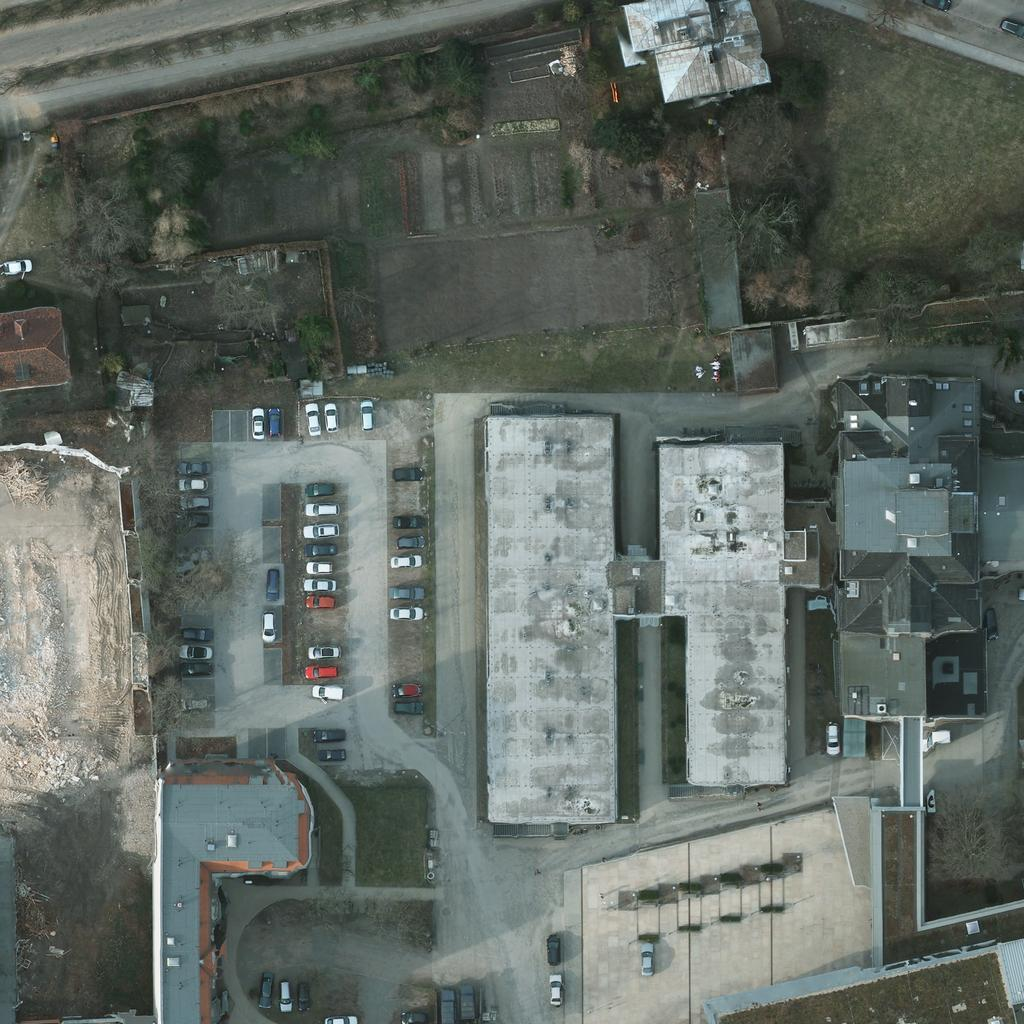car: (349, 398, 383, 432), (313, 400, 347, 434), (295, 401, 329, 435), (238, 405, 272, 439), (256, 406, 290, 440), (388, 457, 422, 491), (178, 468, 212, 502), (301, 469, 335, 503), (180, 484, 214, 518), (303, 491, 337, 525), (390, 504, 424, 538), (301, 513, 335, 547), (391, 523, 425, 557), (301, 531, 335, 565), (388, 544, 422, 578), (302, 548, 336, 582), (256, 564, 290, 598), (301, 567, 335, 601), (388, 574, 422, 608), (304, 584, 338, 618), (386, 596, 420, 630), (249, 609, 283, 643), (174, 616, 208, 650), (304, 633, 338, 667), (178, 634, 212, 668), (178, 650, 212, 684), (303, 653, 337, 687), (388, 673, 422, 707), (310, 675, 344, 709), (176, 686, 210, 720), (390, 690, 424, 724), (312, 716, 346, 750), (814, 720, 848, 754), (315, 736, 349, 770), (315, 737, 349, 771), (536, 931, 570, 965), (629, 940, 663, 974), (248, 972, 282, 1006), (539, 973, 573, 1007), (266, 977, 300, 1011), (285, 978, 319, 1012), (0, 250, 33, 284), (994, 10, 1024, 44), (397, 999, 431, 1024), (322, 1003, 356, 1024)
